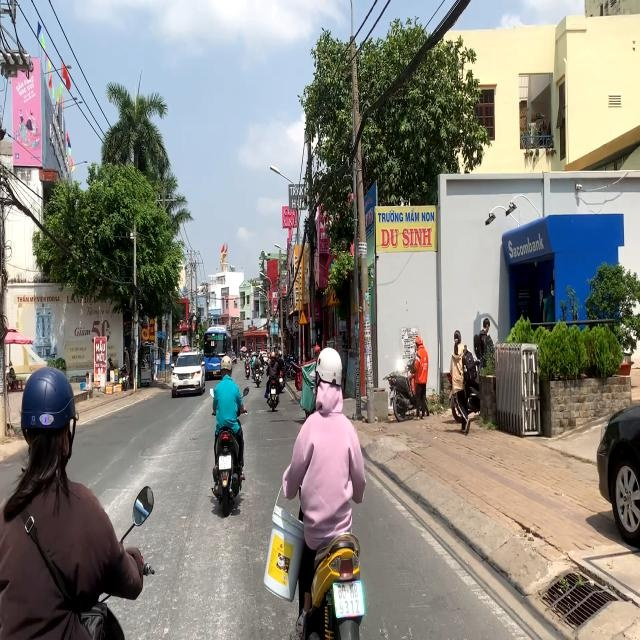bien_nguy_hiem: (298, 308, 308, 326)
